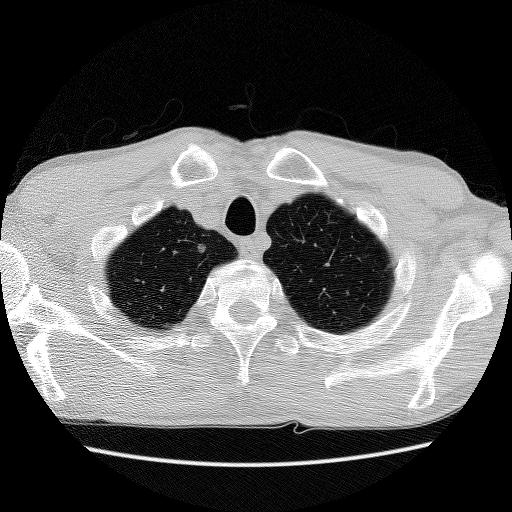nodule: (195, 241, 209, 255)
